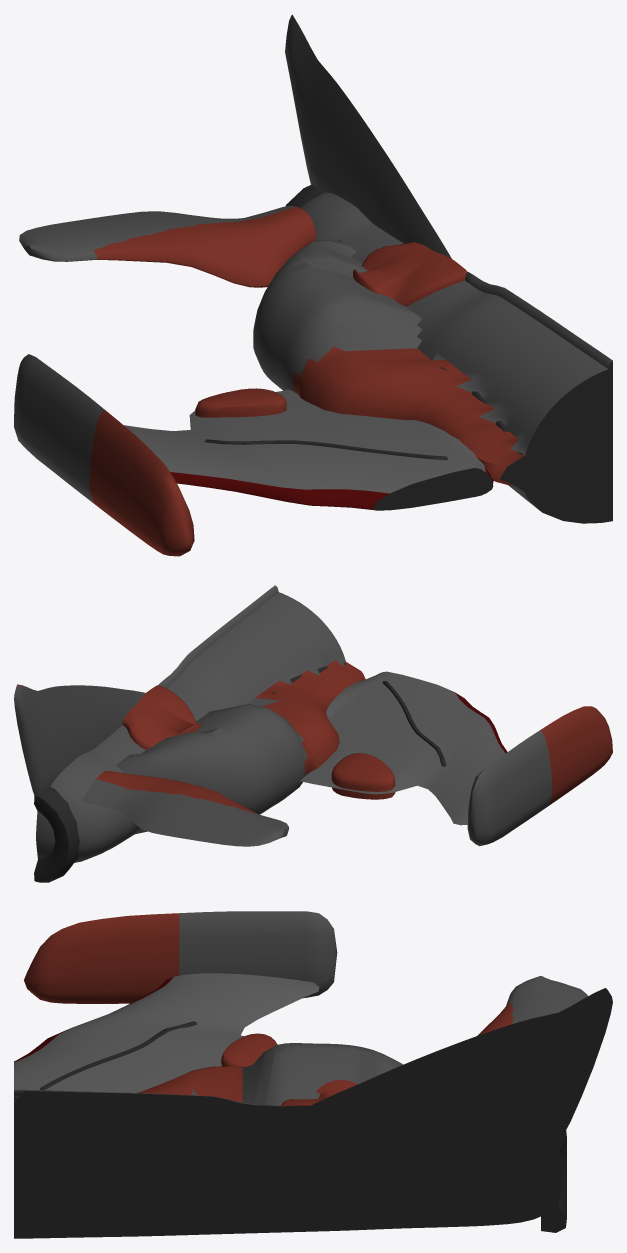
Rendered from redjet_left.glb.
3 views of the same model, one above another, from view 1: azimuth 30°, elevation 25°; view 2: azimuth 150°, elevation 25°; view 3: azimuth 270°, elevation 25° (orthographic). The views are drawn at different scales.
Parts seen in each view (by area): view 1: hull.001, wing_l.001, tip_fin_l.001, tail_l.001, fin.001, shield.001, flap_l.001, spine.001, panel_l.001; view 2: hull.001, wing_l.001, tip_fin_l.001, tail_l.001, fin.001, shield.001, nozzle.001, flap_l.001, spine.001, panel_l.001; view 3: hull.001, fin.001, tip_fin_l.001, wing_l.001, spine.001, tail_l.001, nozzle.001, shield.001, flap_l.001, panel_l.001.
Part boxes in pixels (x1,y1,x2,y2): hull.001: (253, 192, 612, 523); wing_l.001: (124, 390, 493, 510); tip_fin_l.001: (14, 354, 194, 556); tail_l.001: (19, 206, 316, 287); fin.001: (285, 14, 451, 258); shield.001: (353, 242, 467, 306); flap_l.001: (195, 388, 286, 417); spine.001: (465, 272, 612, 378); panel_l.001: (204, 439, 447, 460); hull.001: (36, 592, 365, 862); wing_l.001: (300, 671, 507, 825); tip_fin_l.001: (467, 706, 612, 846); tail_l.001: (81, 771, 288, 846); fin.001: (14, 684, 145, 795); shield.001: (122, 685, 201, 749); nozzle.001: (34, 787, 79, 882); flap_l.001: (331, 753, 395, 799); spine.001: (158, 585, 278, 687); panel_l.001: (382, 681, 446, 766); hull.001: (14, 1043, 562, 1238); fin.001: (291, 988, 612, 1151); tip_fin_l.001: (24, 911, 337, 1003); wing_l.001: (14, 973, 319, 1092); spine.001: (14, 1090, 285, 1123); tail_l.001: (477, 976, 587, 1035); nozzle.001: (541, 1125, 566, 1232); shield.001: (279, 1080, 373, 1130); flap_l.001: (221, 1033, 277, 1066); panel_l.001: (40, 1021, 196, 1090).
Size of the model in its own units: 21.22 by 12.72 by 27.51.
